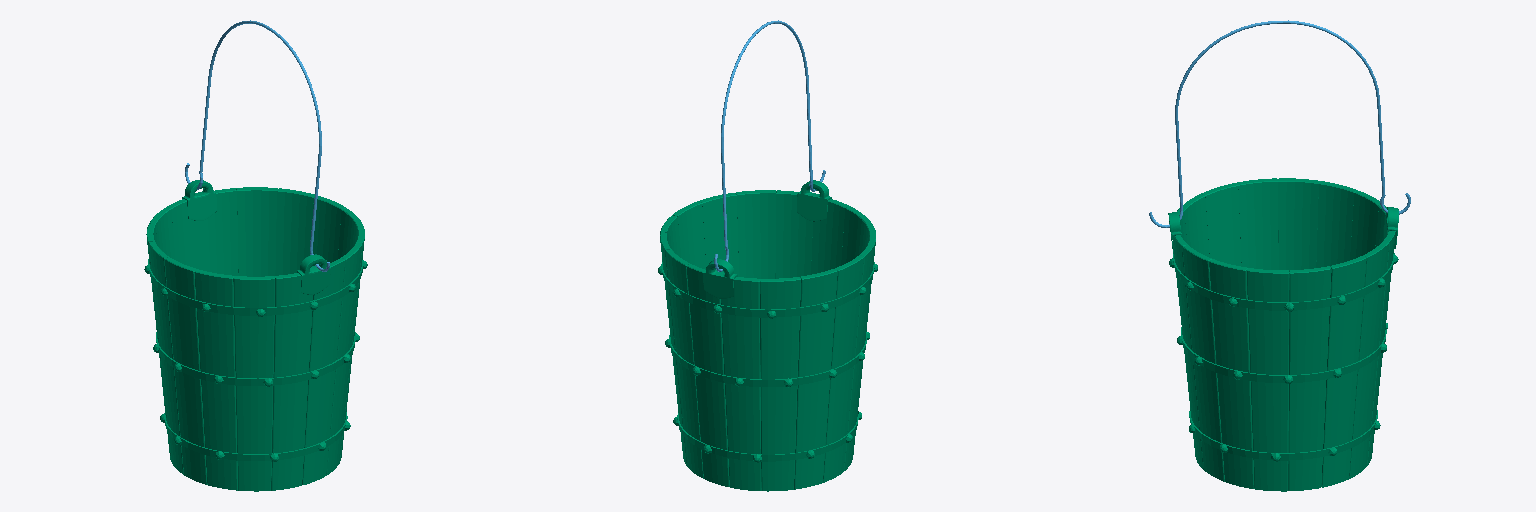
URDF robot description (partnet_d526ce42-9343-4199-88c4-ac7895a6bb10):
<?xml version="1.0" ?>
<robot name="partnet_d526ce42-9343-4199-88c4-ac7895a6bb10">
	<link name="base"/>
	<link name="link_0">
		<visual name="handle-1">
			<origin xyz="-0.0003268543579982526 -0.5520355253983908 6.676954738668307e-05"/>
			<geometry>
				<mesh filename="textured_objs/original-69.obj"/>
			</geometry>
		</visual>
		<visual name="handle-1">
			<origin xyz="-0.0003268543579982526 -0.5520355253983908 6.676954738668307e-05"/>
			<geometry>
				<mesh filename="textured_objs/original-68.obj"/>
			</geometry>
		</visual>
		<visual name="handle-1">
			<origin xyz="-0.0003268543579982526 -0.5520355253983908 6.676954738668307e-05"/>
			<geometry>
				<mesh filename="textured_objs/original-70.obj"/>
			</geometry>
		</visual>
		<collision>
			<origin xyz="-0.0003268543579982526 -0.5520355253983908 6.676954738668307e-05"/>
			<geometry>
				<mesh filename="textured_objs/original-69.obj"/>
			</geometry>
		</collision>
		<collision>
			<origin xyz="-0.0003268543579982526 -0.5520355253983908 6.676954738668307e-05"/>
			<geometry>
				<mesh filename="textured_objs/original-68.obj"/>
			</geometry>
		</collision>
		<collision>
			<origin xyz="-0.0003268543579982526 -0.5520355253983908 6.676954738668307e-05"/>
			<geometry>
				<mesh filename="textured_objs/original-70.obj"/>
			</geometry>
		</collision>
	</link>
	<joint name="joint_0" type="revolute">
		<origin xyz="0.0003268543579982526 0.5520355253983908 -6.676954738668307e-05"/>
		<axis xyz="1 -0.018 -0.087"/>
		<child link="link_0"/>
		<parent link="link_1"/>
		<limit lower="-6.283185307179586" upper="-3.022212132753381"/>
	</joint>
	<link name="link_1">
		<visual name="base_body-2">
			<origin xyz="0 0 0"/>
			<geometry>
				<mesh filename="textured_objs/original-29.obj"/>
			</geometry>
		</visual>
		<visual name="base_body-2">
			<origin xyz="0 0 0"/>
			<geometry>
				<mesh filename="textured_objs/original-21.obj"/>
			</geometry>
		</visual>
		<visual name="base_body-2">
			<origin xyz="0 0 0"/>
			<geometry>
				<mesh filename="textured_objs/original-30.obj"/>
			</geometry>
		</visual>
		<visual name="base_body-2">
			<origin xyz="0 0 0"/>
			<geometry>
				<mesh filename="textured_objs/original-36.obj"/>
			</geometry>
		</visual>
		<visual name="base_body-2">
			<origin xyz="0 0 0"/>
			<geometry>
				<mesh filename="textured_objs/original-41.obj"/>
			</geometry>
		</visual>
		<visual name="base_body-2">
			<origin xyz="0 0 0"/>
			<geometry>
				<mesh filename="textured_objs/original-28.obj"/>
			</geometry>
		</visual>
		<visual name="base_body-2">
			<origin xyz="0 0 0"/>
			<geometry>
				<mesh filename="textured_objs/original-64.obj"/>
			</geometry>
		</visual>
		<visual name="base_body-2">
			<origin xyz="0 0 0"/>
			<geometry>
				<mesh filename="textured_objs/original-43.obj"/>
			</geometry>
		</visual>
		<visual name="base_body-2">
			<origin xyz="0 0 0"/>
			<geometry>
				<mesh filename="textured_objs/original-52.obj"/>
			</geometry>
		</visual>
		<visual name="base_body-2">
			<origin xyz="0 0 0"/>
			<geometry>
				<mesh filename="textured_objs/original-22.obj"/>
			</geometry>
		</visual>
		<visual name="base_body-2">
			<origin xyz="0 0 0"/>
			<geometry>
				<mesh filename="textured_objs/original-26.obj"/>
			</geometry>
		</visual>
		<visual name="base_body-2">
			<origin xyz="0 0 0"/>
			<geometry>
				<mesh filename="textured_objs/original-4.obj"/>
			</geometry>
		</visual>
		<visual name="base_body-2">
			<origin xyz="0 0 0"/>
			<geometry>
				<mesh filename="textured_objs/original-65.obj"/>
			</geometry>
		</visual>
		<visual name="base_body-2">
			<origin xyz="0 0 0"/>
			<geometry>
				<mesh filename="textured_objs/original-33.obj"/>
			</geometry>
		</visual>
		<visual name="base_body-2">
			<origin xyz="0 0 0"/>
			<geometry>
				<mesh filename="textured_objs/original-44.obj"/>
			</geometry>
		</visual>
		<visual name="base_body-2">
			<origin xyz="0 0 0"/>
			<geometry>
				<mesh filename="textured_objs/original-16.obj"/>
			</geometry>
		</visual>
		<visual name="base_body-2">
			<origin xyz="0 0 0"/>
			<geometry>
				<mesh filename="textured_objs/original-8.obj"/>
			</geometry>
		</visual>
		<visual name="base_body-2">
			<origin xyz="0 0 0"/>
			<geometry>
				<mesh filename="textured_objs/original-13.obj"/>
			</geometry>
		</visual>
		<visual name="base_body-2">
			<origin xyz="0 0 0"/>
			<geometry>
				<mesh filename="textured_objs/original-9.obj"/>
			</geometry>
		</visual>
		<visual name="base_body-2">
			<origin xyz="0 0 0"/>
			<geometry>
				<mesh filename="textured_objs/original-45.obj"/>
			</geometry>
		</visual>
		<visual name="base_body-2">
			<origin xyz="0 0 0"/>
			<geometry>
				<mesh filename="textured_objs/original-35.obj"/>
			</geometry>
		</visual>
		<visual name="base_body-2">
			<origin xyz="0 0 0"/>
			<geometry>
				<mesh filename="textured_objs/original-49.obj"/>
			</geometry>
		</visual>
		<visual name="base_body-2">
			<origin xyz="0 0 0"/>
			<geometry>
				<mesh filename="textured_objs/original-61.obj"/>
			</geometry>
		</visual>
		<visual name="base_body-2">
			<origin xyz="0 0 0"/>
			<geometry>
				<mesh filename="textured_objs/original-39.obj"/>
			</geometry>
		</visual>
		<visual name="base_body-2">
			<origin xyz="0 0 0"/>
			<geometry>
				<mesh filename="textured_objs/original-59.obj"/>
			</geometry>
		</visual>
		<visual name="base_body-2">
			<origin xyz="0 0 0"/>
			<geometry>
				<mesh filename="textured_objs/original-5.obj"/>
			</geometry>
		</visual>
		<visual name="base_body-2">
			<origin xyz="0 0 0"/>
			<geometry>
				<mesh filename="textured_objs/original-54.obj"/>
			</geometry>
		</visual>
		<visual name="base_body-2">
			<origin xyz="0 0 0"/>
			<geometry>
				<mesh filename="textured_objs/original-63.obj"/>
			</geometry>
		</visual>
		<visual name="base_body-2">
			<origin xyz="0 0 0"/>
			<geometry>
				<mesh filename="textured_objs/original-27.obj"/>
			</geometry>
		</visual>
		<visual name="base_body-2">
			<origin xyz="0 0 0"/>
			<geometry>
				<mesh filename="textured_objs/original-51.obj"/>
			</geometry>
		</visual>
		<visual name="base_body-2">
			<origin xyz="0 0 0"/>
			<geometry>
				<mesh filename="textured_objs/original-55.obj"/>
			</geometry>
		</visual>
		<visual name="base_body-2">
			<origin xyz="0 0 0"/>
			<geometry>
				<mesh filename="textured_objs/original-50.obj"/>
			</geometry>
		</visual>
		<visual name="base_body-2">
			<origin xyz="0 0 0"/>
			<geometry>
				<mesh filename="textured_objs/original-6.obj"/>
			</geometry>
		</visual>
		<visual name="base_body-2">
			<origin xyz="0 0 0"/>
			<geometry>
				<mesh filename="textured_objs/original-31.obj"/>
			</geometry>
		</visual>
		<visual name="base_body-2">
			<origin xyz="0 0 0"/>
			<geometry>
				<mesh filename="textured_objs/original-37.obj"/>
			</geometry>
		</visual>
		<visual name="base_body-2">
			<origin xyz="0 0 0"/>
			<geometry>
				<mesh filename="textured_objs/original-48.obj"/>
			</geometry>
		</visual>
		<visual name="base_body-2">
			<origin xyz="0 0 0"/>
			<geometry>
				<mesh filename="textured_objs/original-15.obj"/>
			</geometry>
		</visual>
		<visual name="base_body-2">
			<origin xyz="0 0 0"/>
			<geometry>
				<mesh filename="textured_objs/original-56.obj"/>
			</geometry>
		</visual>
		<visual name="base_body-2">
			<origin xyz="0 0 0"/>
			<geometry>
				<mesh filename="textured_objs/original-62.obj"/>
			</geometry>
		</visual>
		<visual name="base_body-2">
			<origin xyz="0 0 0"/>
			<geometry>
				<mesh filename="textured_objs/original-23.obj"/>
			</geometry>
		</visual>
		<visual name="base_body-2">
			<origin xyz="0 0 0"/>
			<geometry>
				<mesh filename="textured_objs/original-66.obj"/>
			</geometry>
		</visual>
		<visual name="base_body-2">
			<origin xyz="0 0 0"/>
			<geometry>
				<mesh filename="textured_objs/original-58.obj"/>
			</geometry>
		</visual>
		<visual name="base_body-2">
			<origin xyz="0 0 0"/>
			<geometry>
				<mesh filename="textured_objs/original-11.obj"/>
			</geometry>
		</visual>
		<visual name="base_body-2">
			<origin xyz="0 0 0"/>
			<geometry>
				<mesh filename="textured_objs/original-38.obj"/>
			</geometry>
		</visual>
		<visual name="base_body-2">
			<origin xyz="0 0 0"/>
			<geometry>
				<mesh filename="textured_objs/original-34.obj"/>
			</geometry>
		</visual>
		<visual name="base_body-2">
			<origin xyz="0 0 0"/>
			<geometry>
				<mesh filename="textured_objs/original-18.obj"/>
			</geometry>
		</visual>
		<visual name="base_body-2">
			<origin xyz="0 0 0"/>
			<geometry>
				<mesh filename="textured_objs/original-25.obj"/>
			</geometry>
		</visual>
		<visual name="base_body-2">
			<origin xyz="0 0 0"/>
			<geometry>
				<mesh filename="textured_objs/original-17.obj"/>
			</geometry>
		</visual>
		<visual name="base_body-2">
			<origin xyz="0 0 0"/>
			<geometry>
				<mesh filename="textured_objs/original-12.obj"/>
			</geometry>
		</visual>
		<visual name="base_body-2">
			<origin xyz="0 0 0"/>
			<geometry>
				<mesh filename="textured_objs/original-42.obj"/>
			</geometry>
		</visual>
		<visual name="base_body-2">
			<origin xyz="0 0 0"/>
			<geometry>
				<mesh filename="textured_objs/original-24.obj"/>
			</geometry>
		</visual>
		<visual name="base_body-2">
			<origin xyz="0 0 0"/>
			<geometry>
				<mesh filename="textured_objs/original-20.obj"/>
			</geometry>
		</visual>
		<visual name="base_body-2">
			<origin xyz="0 0 0"/>
			<geometry>
				<mesh filename="textured_objs/original-32.obj"/>
			</geometry>
		</visual>
		<visual name="base_body-2">
			<origin xyz="0 0 0"/>
			<geometry>
				<mesh filename="textured_objs/original-47.obj"/>
			</geometry>
		</visual>
		<visual name="base_body-2">
			<origin xyz="0 0 0"/>
			<geometry>
				<mesh filename="textured_objs/original-53.obj"/>
			</geometry>
		</visual>
		<visual name="base_body-2">
			<origin xyz="0 0 0"/>
			<geometry>
				<mesh filename="textured_objs/original-7.obj"/>
			</geometry>
		</visual>
		<visual name="base_body-2">
			<origin xyz="0 0 0"/>
			<geometry>
				<mesh filename="textured_objs/original-1.obj"/>
			</geometry>
		</visual>
		<visual name="base_body-2">
			<origin xyz="0 0 0"/>
			<geometry>
				<mesh filename="textured_objs/original-10.obj"/>
			</geometry>
		</visual>
		<visual name="base_body-2">
			<origin xyz="0 0 0"/>
			<geometry>
				<mesh filename="textured_objs/original-14.obj"/>
			</geometry>
		</visual>
		<visual name="base_body-2">
			<origin xyz="0 0 0"/>
			<geometry>
				<mesh filename="textured_objs/original-60.obj"/>
			</geometry>
		</visual>
		<visual name="base_body-2">
			<origin xyz="0 0 0"/>
			<geometry>
				<mesh filename="textured_objs/original-19.obj"/>
			</geometry>
		</visual>
		<visual name="base_body-2">
			<origin xyz="0 0 0"/>
			<geometry>
				<mesh filename="textured_objs/original-40.obj"/>
			</geometry>
		</visual>
		<visual name="base_body-2">
			<origin xyz="0 0 0"/>
			<geometry>
				<mesh filename="textured_objs/original-46.obj"/>
			</geometry>
		</visual>
		<visual name="base_body-2">
			<origin xyz="0 0 0"/>
			<geometry>
				<mesh filename="textured_objs/original-57.obj"/>
			</geometry>
		</visual>
		<collision>
			<origin xyz="0 0 0"/>
			<geometry>
				<mesh filename="textured_objs/original-29.obj"/>
			</geometry>
		</collision>
		<collision>
			<origin xyz="0 0 0"/>
			<geometry>
				<mesh filename="textured_objs/original-21.obj"/>
			</geometry>
		</collision>
		<collision>
			<origin xyz="0 0 0"/>
			<geometry>
				<mesh filename="textured_objs/original-30.obj"/>
			</geometry>
		</collision>
		<collision>
			<origin xyz="0 0 0"/>
			<geometry>
				<mesh filename="textured_objs/original-36.obj"/>
			</geometry>
		</collision>
		<collision>
			<origin xyz="0 0 0"/>
			<geometry>
				<mesh filename="textured_objs/original-41.obj"/>
			</geometry>
		</collision>
		<collision>
			<origin xyz="0 0 0"/>
			<geometry>
				<mesh filename="textured_objs/original-28.obj"/>
			</geometry>
		</collision>
		<collision>
			<origin xyz="0 0 0"/>
			<geometry>
				<mesh filename="textured_objs/original-64.obj"/>
			</geometry>
		</collision>
		<collision>
			<origin xyz="0 0 0"/>
			<geometry>
				<mesh filename="textured_objs/original-43.obj"/>
			</geometry>
		</collision>
		<collision>
			<origin xyz="0 0 0"/>
			<geometry>
				<mesh filename="textured_objs/original-52.obj"/>
			</geometry>
		</collision>
		<collision>
			<origin xyz="0 0 0"/>
			<geometry>
				<mesh filename="textured_objs/original-22.obj"/>
			</geometry>
		</collision>
		<collision>
			<origin xyz="0 0 0"/>
			<geometry>
				<mesh filename="textured_objs/original-26.obj"/>
			</geometry>
		</collision>
		<collision>
			<origin xyz="0 0 0"/>
			<geometry>
				<mesh filename="textured_objs/original-4.obj"/>
			</geometry>
		</collision>
		<collision>
			<origin xyz="0 0 0"/>
			<geometry>
				<mesh filename="textured_objs/original-65.obj"/>
			</geometry>
		</collision>
		<collision>
			<origin xyz="0 0 0"/>
			<geometry>
				<mesh filename="textured_objs/original-33.obj"/>
			</geometry>
		</collision>
		<collision>
			<origin xyz="0 0 0"/>
			<geometry>
				<mesh filename="textured_objs/original-44.obj"/>
			</geometry>
		</collision>
		<collision>
			<origin xyz="0 0 0"/>
			<geometry>
				<mesh filename="textured_objs/original-16.obj"/>
			</geometry>
		</collision>
		<collision>
			<origin xyz="0 0 0"/>
			<geometry>
				<mesh filename="textured_objs/original-8.obj"/>
			</geometry>
		</collision>
		<collision>
			<origin xyz="0 0 0"/>
			<geometry>
				<mesh filename="textured_objs/original-13.obj"/>
			</geometry>
		</collision>
		<collision>
			<origin xyz="0 0 0"/>
			<geometry>
				<mesh filename="textured_objs/original-9.obj"/>
			</geometry>
		</collision>
		<collision>
			<origin xyz="0 0 0"/>
			<geometry>
				<mesh filename="textured_objs/original-45.obj"/>
			</geometry>
		</collision>
		<collision>
			<origin xyz="0 0 0"/>
			<geometry>
				<mesh filename="textured_objs/original-35.obj"/>
			</geometry>
		</collision>
		<collision>
			<origin xyz="0 0 0"/>
			<geometry>
				<mesh filename="textured_objs/original-49.obj"/>
			</geometry>
		</collision>
		<collision>
			<origin xyz="0 0 0"/>
			<geometry>
				<mesh filename="textured_objs/original-61.obj"/>
			</geometry>
		</collision>
		<collision>
			<origin xyz="0 0 0"/>
			<geometry>
				<mesh filename="textured_objs/original-39.obj"/>
			</geometry>
		</collision>
		<collision>
			<origin xyz="0 0 0"/>
			<geometry>
				<mesh filename="textured_objs/original-59.obj"/>
			</geometry>
		</collision>
		<collision>
			<origin xyz="0 0 0"/>
			<geometry>
				<mesh filename="textured_objs/original-5.obj"/>
			</geometry>
		</collision>
		<collision>
			<origin xyz="0 0 0"/>
			<geometry>
				<mesh filename="textured_objs/original-54.obj"/>
			</geometry>
		</collision>
		<collision>
			<origin xyz="0 0 0"/>
			<geometry>
				<mesh filename="textured_objs/original-63.obj"/>
			</geometry>
		</collision>
		<collision>
			<origin xyz="0 0 0"/>
			<geometry>
				<mesh filename="textured_objs/original-27.obj"/>
			</geometry>
		</collision>
		<collision>
			<origin xyz="0 0 0"/>
			<geometry>
				<mesh filename="textured_objs/original-51.obj"/>
			</geometry>
		</collision>
		<collision>
			<origin xyz="0 0 0"/>
			<geometry>
				<mesh filename="textured_objs/original-55.obj"/>
			</geometry>
		</collision>
		<collision>
			<origin xyz="0 0 0"/>
			<geometry>
				<mesh filename="textured_objs/original-50.obj"/>
			</geometry>
		</collision>
		<collision>
			<origin xyz="0 0 0"/>
			<geometry>
				<mesh filename="textured_objs/original-6.obj"/>
			</geometry>
		</collision>
		<collision>
			<origin xyz="0 0 0"/>
			<geometry>
				<mesh filename="textured_objs/original-31.obj"/>
			</geometry>
		</collision>
		<collision>
			<origin xyz="0 0 0"/>
			<geometry>
				<mesh filename="textured_objs/original-37.obj"/>
			</geometry>
		</collision>
		<collision>
			<origin xyz="0 0 0"/>
			<geometry>
				<mesh filename="textured_objs/original-48.obj"/>
			</geometry>
		</collision>
		<collision>
			<origin xyz="0 0 0"/>
			<geometry>
				<mesh filename="textured_objs/original-15.obj"/>
			</geometry>
		</collision>
		<collision>
			<origin xyz="0 0 0"/>
			<geometry>
				<mesh filename="textured_objs/original-56.obj"/>
			</geometry>
		</collision>
		<collision>
			<origin xyz="0 0 0"/>
			<geometry>
				<mesh filename="textured_objs/original-62.obj"/>
			</geometry>
		</collision>
		<collision>
			<origin xyz="0 0 0"/>
			<geometry>
				<mesh filename="textured_objs/original-23.obj"/>
			</geometry>
		</collision>
		<collision>
			<origin xyz="0 0 0"/>
			<geometry>
				<mesh filename="textured_objs/original-66.obj"/>
			</geometry>
		</collision>
		<collision>
			<origin xyz="0 0 0"/>
			<geometry>
				<mesh filename="textured_objs/original-58.obj"/>
			</geometry>
		</collision>
		<collision>
			<origin xyz="0 0 0"/>
			<geometry>
				<mesh filename="textured_objs/original-11.obj"/>
			</geometry>
		</collision>
		<collision>
			<origin xyz="0 0 0"/>
			<geometry>
				<mesh filename="textured_objs/original-38.obj"/>
			</geometry>
		</collision>
		<collision>
			<origin xyz="0 0 0"/>
			<geometry>
				<mesh filename="textured_objs/original-34.obj"/>
			</geometry>
		</collision>
		<collision>
			<origin xyz="0 0 0"/>
			<geometry>
				<mesh filename="textured_objs/original-18.obj"/>
			</geometry>
		</collision>
		<collision>
			<origin xyz="0 0 0"/>
			<geometry>
				<mesh filename="textured_objs/original-25.obj"/>
			</geometry>
		</collision>
		<collision>
			<origin xyz="0 0 0"/>
			<geometry>
				<mesh filename="textured_objs/original-17.obj"/>
			</geometry>
		</collision>
		<collision>
			<origin xyz="0 0 0"/>
			<geometry>
				<mesh filename="textured_objs/original-12.obj"/>
			</geometry>
		</collision>
		<collision>
			<origin xyz="0 0 0"/>
			<geometry>
				<mesh filename="textured_objs/original-42.obj"/>
			</geometry>
		</collision>
		<collision>
			<origin xyz="0 0 0"/>
			<geometry>
				<mesh filename="textured_objs/original-24.obj"/>
			</geometry>
		</collision>
		<collision>
			<origin xyz="0 0 0"/>
			<geometry>
				<mesh filename="textured_objs/original-20.obj"/>
			</geometry>
		</collision>
		<collision>
			<origin xyz="0 0 0"/>
			<geometry>
				<mesh filename="textured_objs/original-32.obj"/>
			</geometry>
		</collision>
		<collision>
			<origin xyz="0 0 0"/>
			<geometry>
				<mesh filename="textured_objs/original-47.obj"/>
			</geometry>
		</collision>
		<collision>
			<origin xyz="0 0 0"/>
			<geometry>
				<mesh filename="textured_objs/original-53.obj"/>
			</geometry>
		</collision>
		<collision>
			<origin xyz="0 0 0"/>
			<geometry>
				<mesh filename="textured_objs/original-7.obj"/>
			</geometry>
		</collision>
		<collision>
			<origin xyz="0 0 0"/>
			<geometry>
				<mesh filename="textured_objs/original-1.obj"/>
			</geometry>
		</collision>
		<collision>
			<origin xyz="0 0 0"/>
			<geometry>
				<mesh filename="textured_objs/original-10.obj"/>
			</geometry>
		</collision>
		<collision>
			<origin xyz="0 0 0"/>
			<geometry>
				<mesh filename="textured_objs/original-14.obj"/>
			</geometry>
		</collision>
		<collision>
			<origin xyz="0 0 0"/>
			<geometry>
				<mesh filename="textured_objs/original-60.obj"/>
			</geometry>
		</collision>
		<collision>
			<origin xyz="0 0 0"/>
			<geometry>
				<mesh filename="textured_objs/original-19.obj"/>
			</geometry>
		</collision>
		<collision>
			<origin xyz="0 0 0"/>
			<geometry>
				<mesh filename="textured_objs/original-40.obj"/>
			</geometry>
		</collision>
		<collision>
			<origin xyz="0 0 0"/>
			<geometry>
				<mesh filename="textured_objs/original-46.obj"/>
			</geometry>
		</collision>
		<collision>
			<origin xyz="0 0 0"/>
			<geometry>
				<mesh filename="textured_objs/original-57.obj"/>
			</geometry>
		</collision>
	</link>
	<joint name="joint_1" type="fixed">
		<origin rpy="1.570796326794897 0 -1.570796326794897" xyz="0 0 0"/>
		<child link="link_1"/>
		<parent link="base"/>
	</joint>
</robot>

--- What the picture shows (computed from the rendered views, not written in the file) ---
3 views of the same robot in one strip: view 1: azimuth 30°, elevation 25°; view 2: azimuth 150°, elevation 25°; view 3: azimuth 270°, elevation 25° (orthographic).
Model partnet_d526ce42-9343-4199-88c4-ac7895a6bb10 with 3 links and 2 joints (1 revolute, 1 fixed), rooted at base, posed joints at zero except 1 at the middle of their limits (joint_0 = -4.65).
Visible links, largest first — view 1: link_1, link_0; view 2: link_1, link_0; view 3: link_1, link_0.
Boxes of the visible links, x1,y1,x2,y2 form: link_1: (144,180,367,491); link_0: (185,20,329,271); link_1: (658,180,877,491); link_0: (714,20,825,271); link_1: (1168,178,1398,491); link_0: (1149,20,1410,227).
Bounding box of the posed robot: 0.9324 × 1.06 × 1.97 m (x, y, z).
Meshes: 67 distinct files referenced, 67 mesh visuals loaded (67 OBJ).
